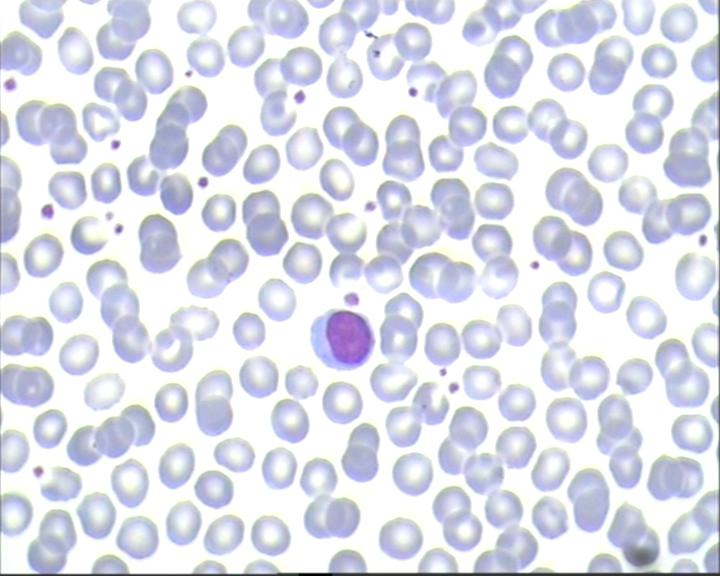lymp: (308, 305, 376, 373)
